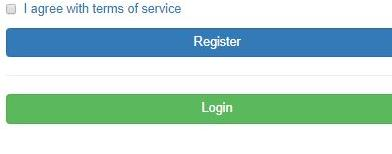checkbox: (4, 1, 17, 15)
checkbox_with_label: (3, 1, 182, 16)
